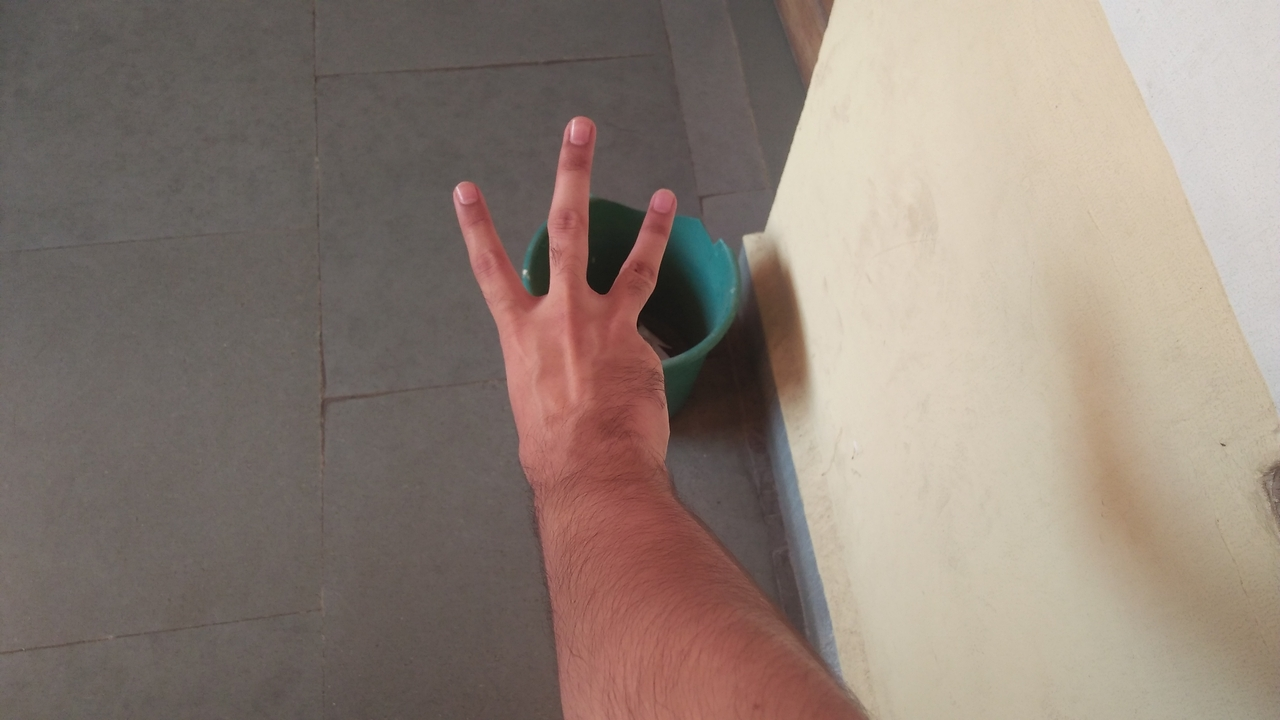fingertip: (440, 168, 496, 220), (632, 178, 686, 224), (550, 108, 602, 150)
